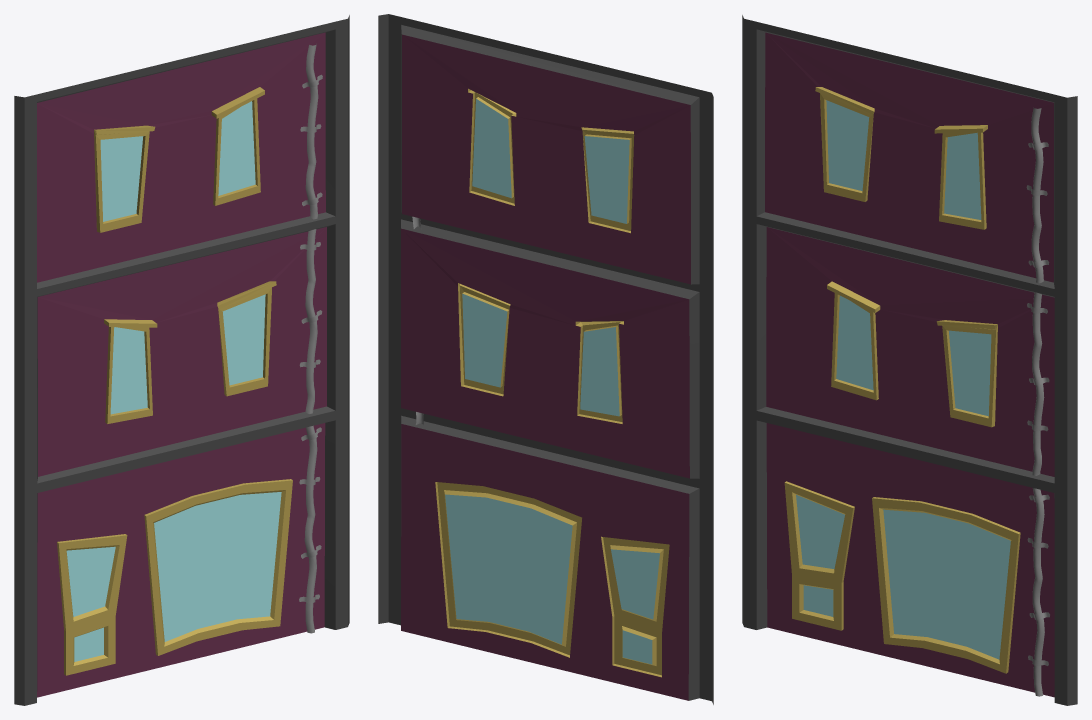
File: CFT_Facade_001.FBX
The picture shows the model from 3 angles, left to right: view 1: azimuth 30°, elevation 25°; view 2: azimuth 150°, elevation 25°; view 3: azimuth 330°, elevation 25°; orthographic projection.
Visible parts, largest first — view 1: Boutique_001, Goutière_001; view 2: Boutique_001; view 3: Boutique_001, Goutière_001.
Part boxes in pixels (box(x1,y1,x2,y2)): Boutique_001: box(14, 15, 349, 705); Goutière_001: box(299, 43, 322, 633); Boutique_001: box(378, 14, 713, 704); Boutique_001: box(742, 15, 1077, 705); Goutière_001: box(1026, 107, 1049, 696).
Size of the model in its own units: 447 by 775 by 14.5.
